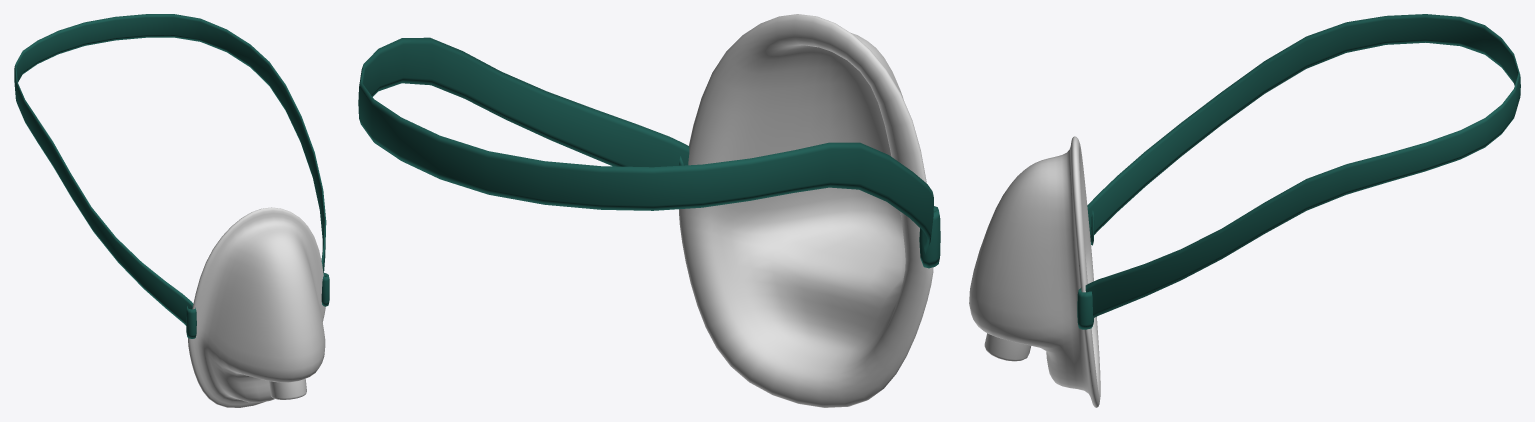
Rendered from Oxygen Mask.fbx.
3 views of the same model, side by side, from view 1: azimuth 30°, elevation 25°; view 2: azimuth 150°, elevation 25°; view 3: azimuth 270°, elevation 25° (orthographic). The views are drawn at different scales.
Visible parts, largest first — view 1: Oxygen Mask; view 2: Oxygen Mask; view 3: Oxygen Mask.
Part boxes in pixels (x1,y1,x2,y2): Oxygen Mask: (14,14,329,407); Oxygen Mask: (358,14,940,407); Oxygen Mask: (969,14,1520,407).
Bounding box in the file's own units: 17.16 × 18.16 × 27.82.
